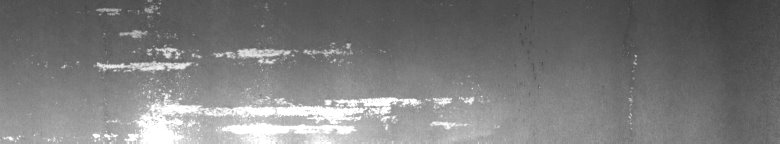kb: (32, 4, 483, 136)
